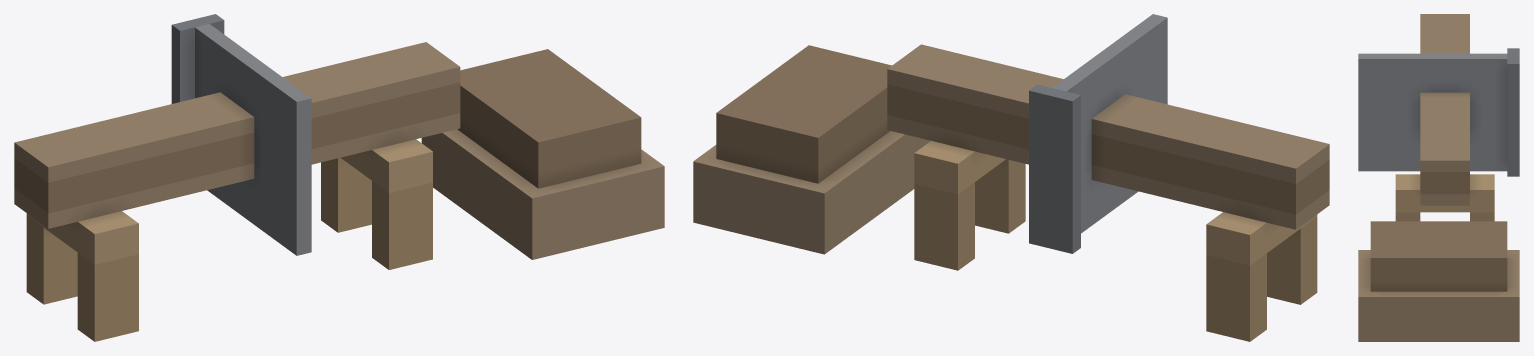
The model's file is scierie.glb.
The picture shows the model from 3 angles, left to right: view 1: azimuth 30°, elevation 25°; view 2: azimuth 150°, elevation 25°; view 3: azimuth 270°, elevation 25°; orthographic projection. The views are drawn at different scales.
Visible parts, largest first — view 1: geometry_0; view 2: geometry_0; view 3: geometry_0.
Boxes of the visible parts, x1,y1,x2,y2 form: geometry_0: (14,14,664,341); geometry_0: (693,14,1329,341); geometry_0: (1358,14,1519,341).
Size of the model in its own units: 4.88 by 1.75 by 1.62.
